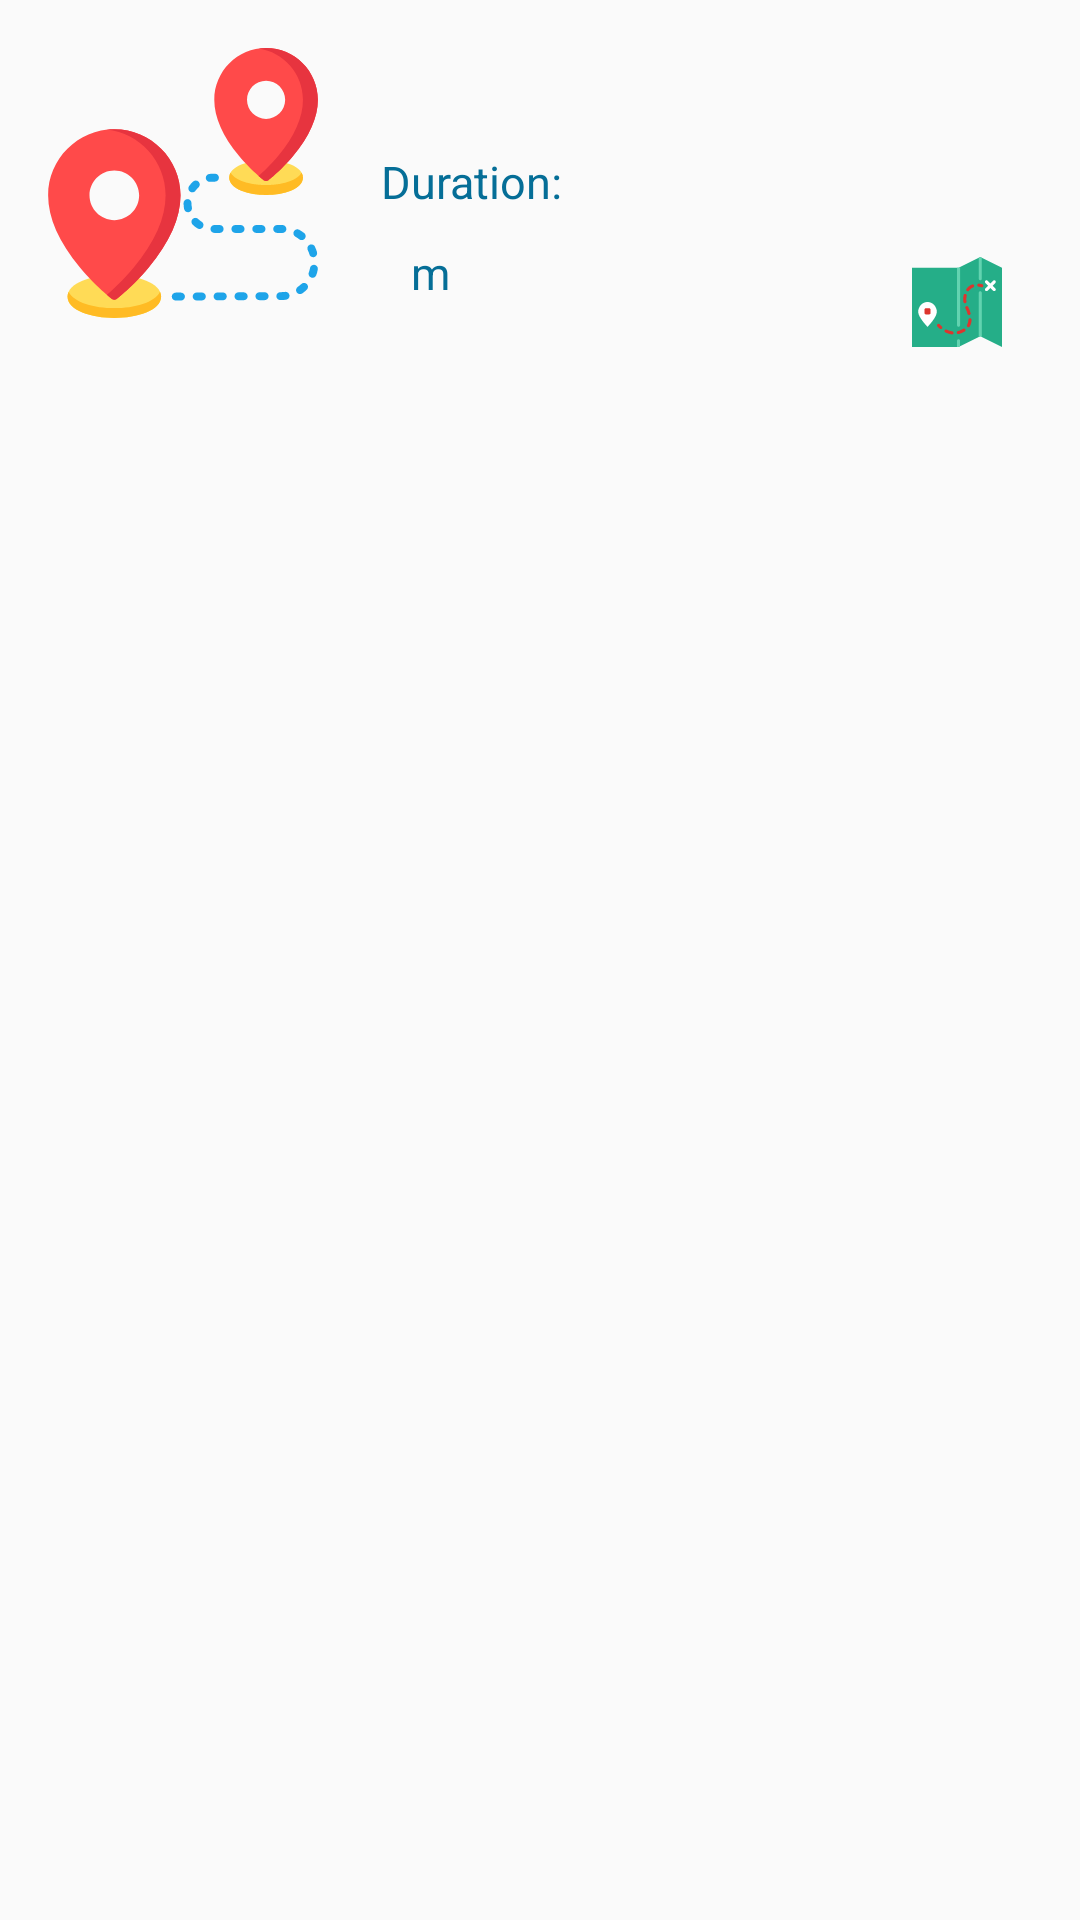

Icon bounding boxes for this 1080×1920 phone screenshot, format (x1, y1, x2, y2):
destination: (48, 48, 318, 318)
map: (912, 257, 1002, 347)
